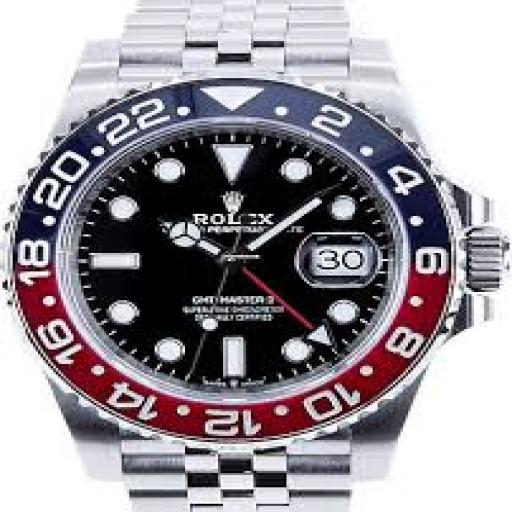KolSaati: (5, 0, 506, 512)
